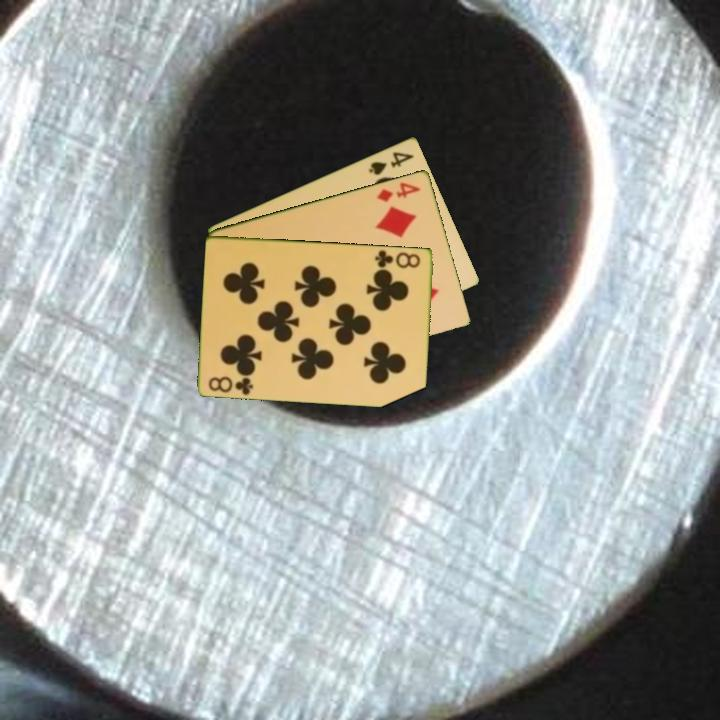4d: (373, 178, 424, 205)
4s: (365, 148, 417, 178)
8c: (372, 246, 423, 271), (205, 373, 256, 397)
